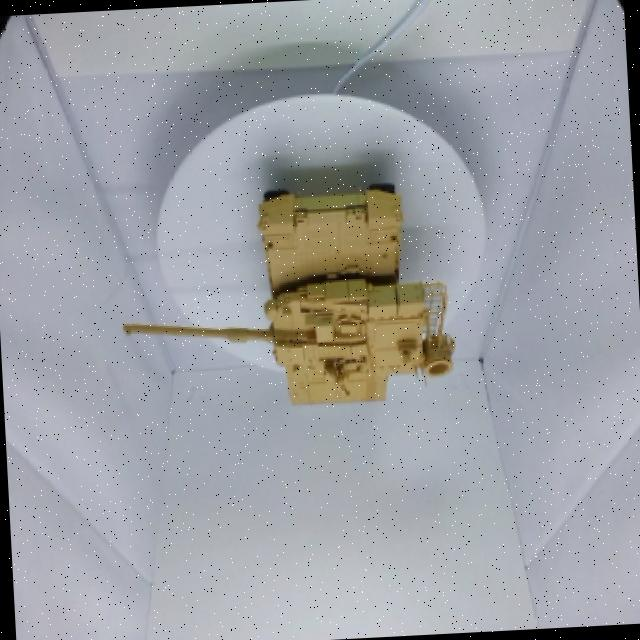korea tank: (102, 143, 496, 458)
